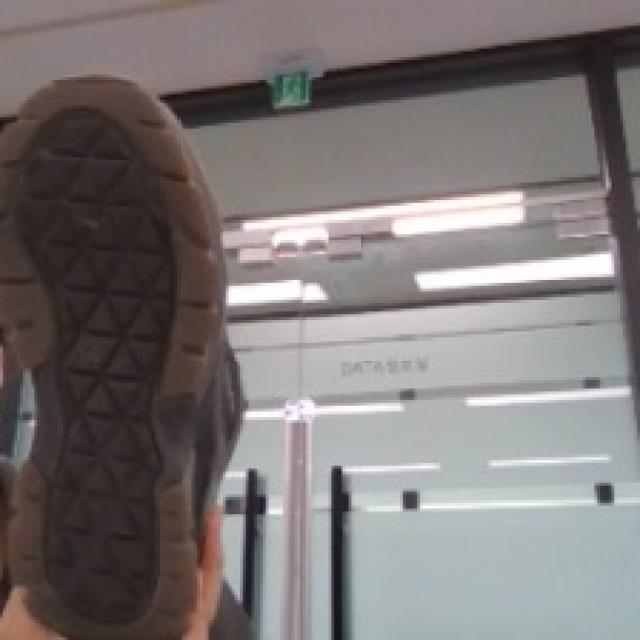shoe: (6, 37, 276, 640)
